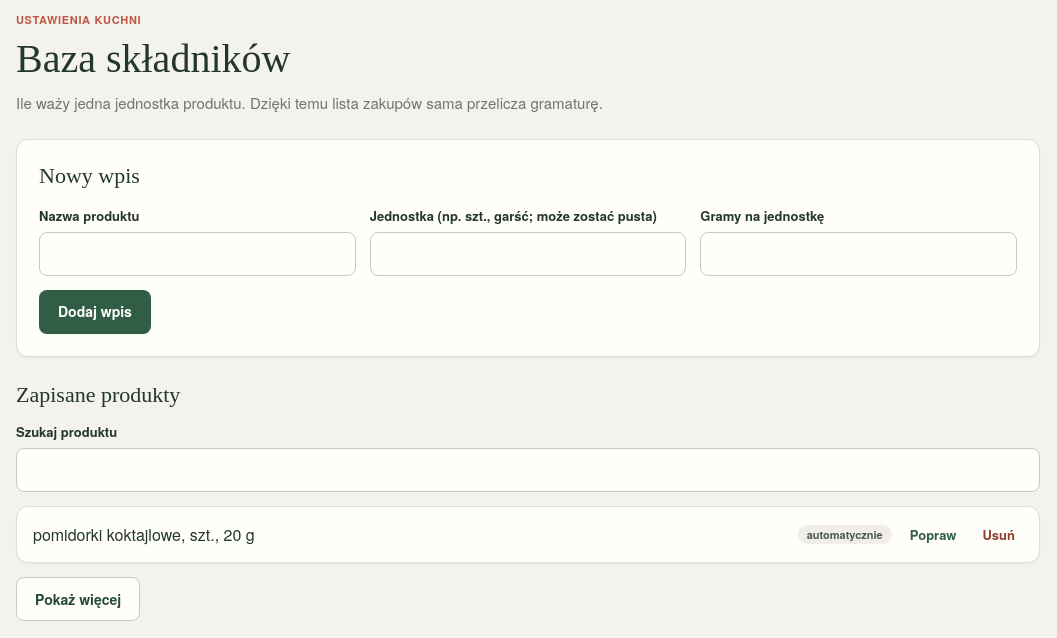
Test: ingredient knowledge base › loads the next page on request
Click the button "Pokaż więcej": (78, 599) x1=16 y1=577 x2=140 y2=621
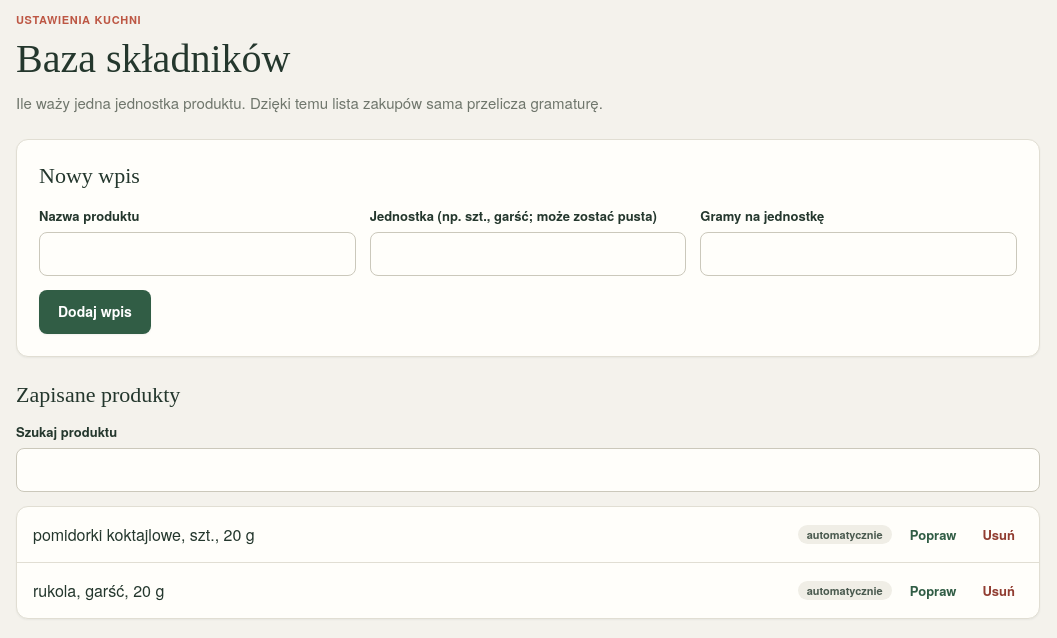
Expected: the text "pomidorki koktajlowe, szt., 20 g" is shown, x1=33 y1=523 x2=255 y2=546
Now the text "rukola, garść, 20 g" is shown, box x1=33 y1=579 x2=164 y2=602
Now the button "Pokaż więcej" is gone
